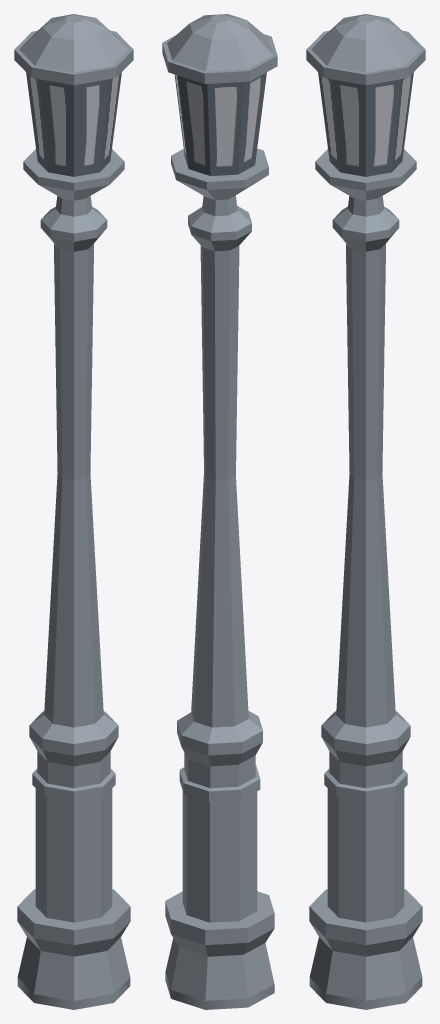
The model's file is Poste de Luz 1.FBX.
3 views of the same model, side by side, from view 1: azimuth 90°, elevation 25°; view 2: azimuth 210°, elevation 25°; view 3: azimuth 270°, elevation 25° (orthographic).
Visible parts, largest first — view 1: LPLampPost; view 2: LPLampPost; view 3: LPLampPost.
Part boxes in pixels (bbox=[...]): LPLampPost: bbox=[14, 14, 133, 1009]; LPLampPost: bbox=[162, 14, 277, 1009]; LPLampPost: bbox=[306, 14, 425, 1009].
Bounding box in the file's own units: 7.51 × 67.17 × 7.51.
